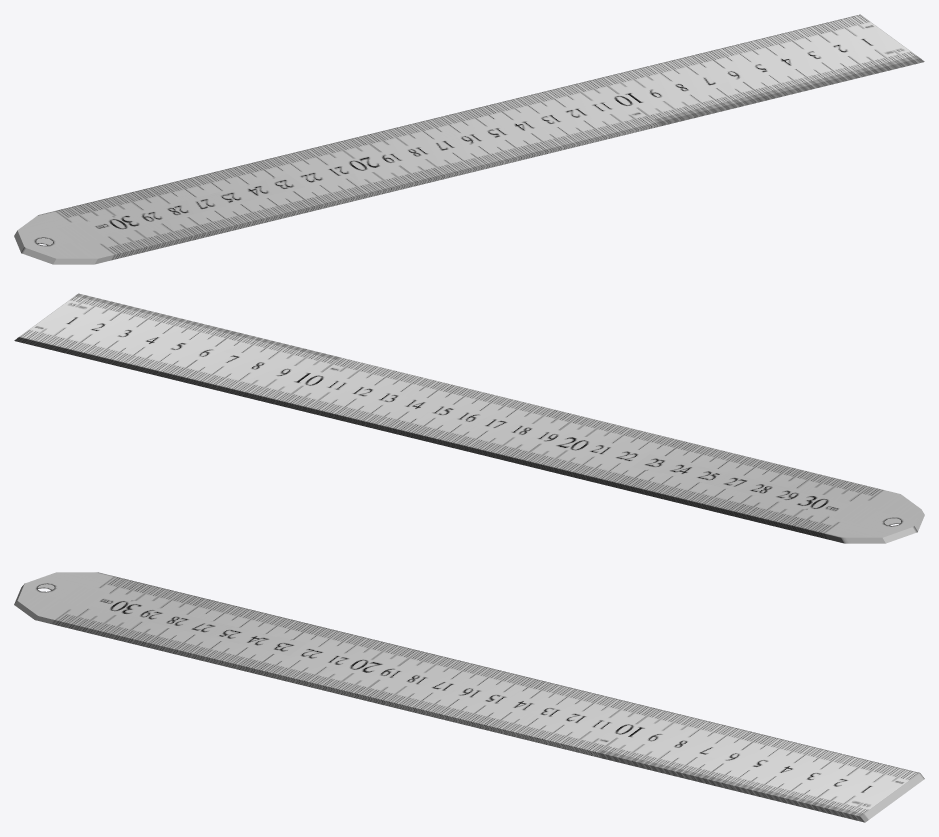
3 renders of one model, top to bottom at view 1: azimuth 30°, elevation 25°; view 2: azimuth 150°, elevation 25°; view 3: azimuth 330°, elevation 25°, orthographic.
Parts seen in each view (by area): view 1: Cylinder.015; view 2: Cylinder.015; view 3: Cylinder.015.
Part boxes in pixels (x1,y1,x2,y2): Cylinder.015: [14, 14, 924, 264]; Cylinder.015: [14, 293, 924, 543]; Cylinder.015: [14, 572, 924, 822].
Size of the model in its own units: 3868 by 20.79 by 458.
Materials: 1 (1 with a texture image).
